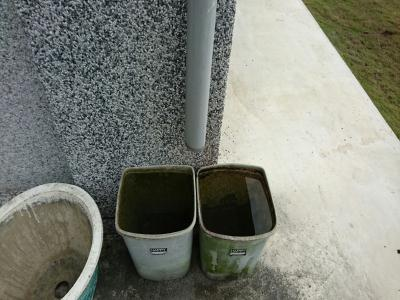bowl: (1, 181, 104, 300)
bucket: (111, 162, 197, 284), (194, 160, 278, 283)
